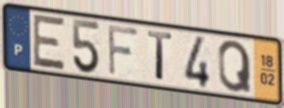4: (183, 34, 213, 90)
5: (70, 16, 101, 76)
E: (32, 12, 67, 73)
F: (106, 23, 140, 78)
Q: (216, 39, 254, 95)
T: (146, 29, 174, 84)
